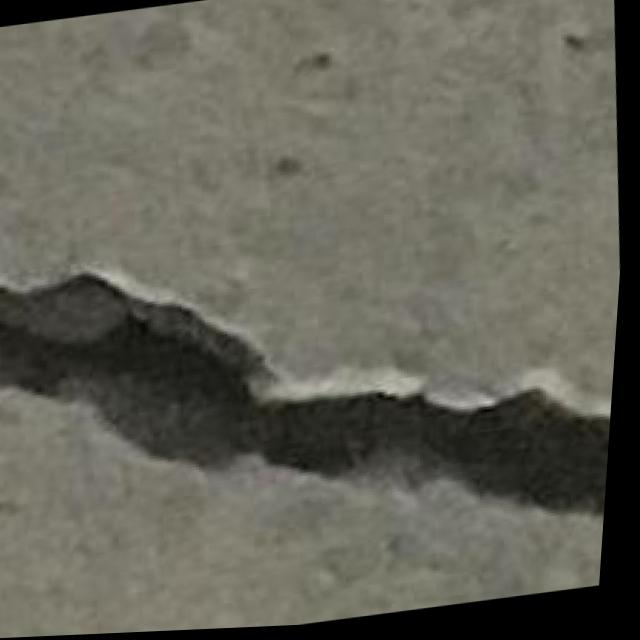Crack: (0, 200, 628, 615)
